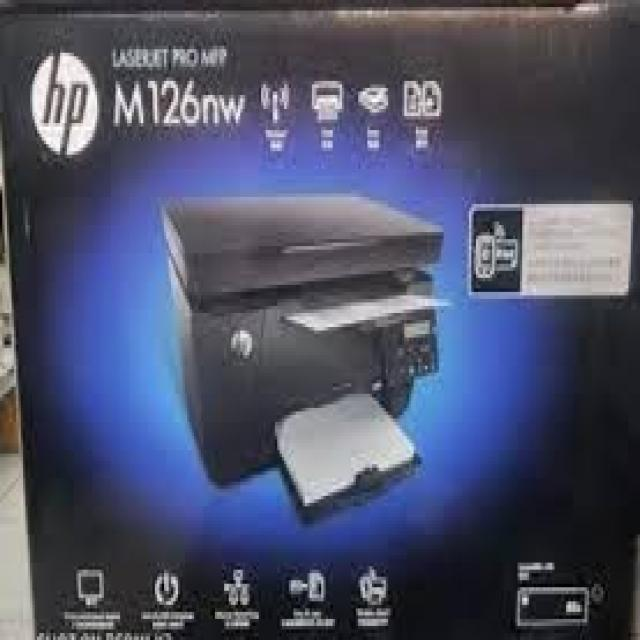printer: (157, 190, 446, 513)
